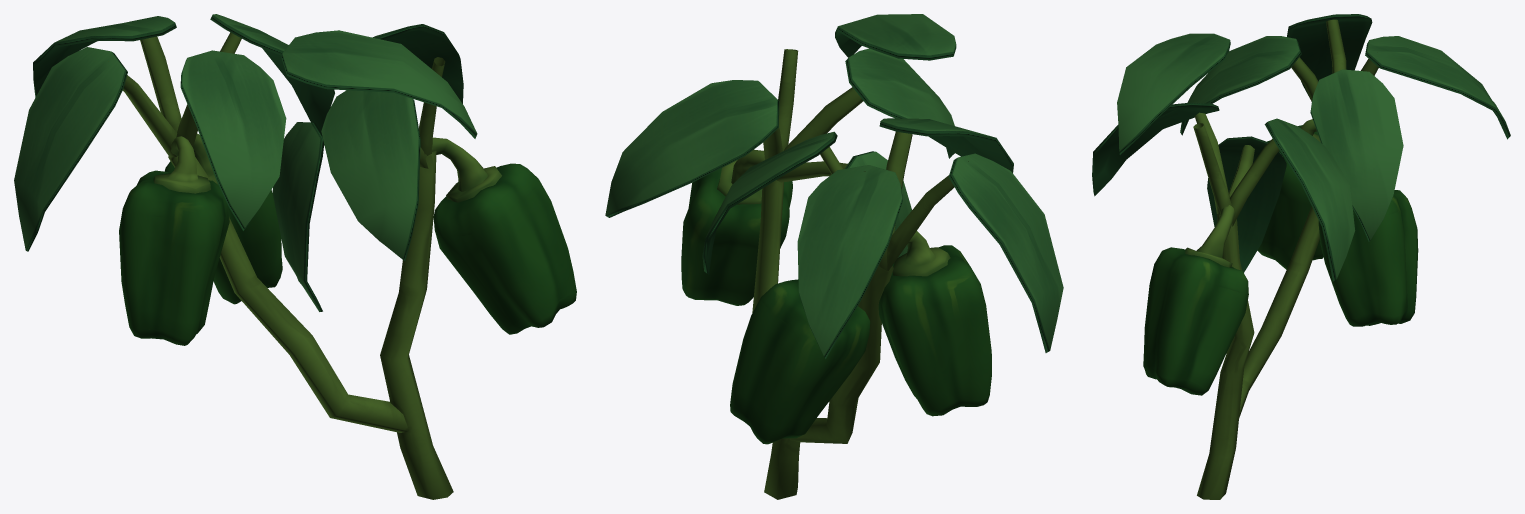
The model's file is pimentão inteiro.fbx.
3 views of the same model, side by side, from view 1: azimuth 30°, elevation 25°; view 2: azimuth 150°, elevation 25°; view 3: azimuth 270°, elevation 25° (orthographic). The views are drawn at different scales.
Visible parts, largest first — view 1: pimentão4:Group47311.001, pimentão4:Group28728, pimentão4:Group34766.001, pimentão4:Group34766, pimentão4:Group64189, pimentão, pimentão4:Group2140.001, pimentão4:Group39029, pimentão4:Group64189.001, pimentão4:Group47311, pimentão4:Group51936, pimentão4:Group2140 (+6 smaller); view 2: pimentão4:Group28728, pimentão4:Group47311, pimentão4:Group51936, pimentão4:Group51936.001, pimentão4:Group64189, pimentão4:Group47311.001, pimentão4:Group34766.001, pimentão4:Group2140.001, pimentão, pimentão4:Group39029, pimentão4:Group2140, pimentão4:Group34766 (+8 smaller); view 3: pimentão4:Group47311.001, pimentão4:Group2140, pimentão4:Group47311, pimentão4:Group2140.001, pimentão4:Group51936.001, pimentão, pimentão4:Group51936, pimentão4:Group64189.001, pimentão4:Group34766, pimentão4:Group39029, pimentão4:Group64189, pimentão4:Group28728 (+8 smaller).
Boxes of the visible parts, left/top/right/bottom form: pimentão4:Group47311.001: left=433, top=163, right=576, bottom=334; pimentão4:Group28728: left=119, top=170, right=229, bottom=345; pimentão4:Group34766.001: left=321, top=90, right=420, bottom=261; pimentão4:Group34766: left=180, top=50, right=286, bottom=230; pimentão4:Group64189: left=14, top=47, right=127, bottom=251; pimentão: left=380, top=150, right=453, bottom=499; pimentão4:Group2140.001: left=281, top=30, right=477, bottom=138; pimentão4:Group39029: left=168, top=156, right=408, bottom=432; pimentão4:Group64189.001: left=272, top=122, right=324, bottom=311; pimentão4:Group47311: left=164, top=161, right=282, bottom=304; pimentão4:Group51936: left=33, top=16, right=176, bottom=97; pimentão4:Group2140: left=210, top=14, right=334, bottom=132; pimentão4:Group28728: left=878, top=245, right=991, bottom=416; pimentão4:Group47311: left=730, top=279, right=870, bottom=444; pimentão4:Group51936: left=797, top=165, right=902, bottom=358; pimentão4:Group51936.001: left=605, top=80, right=779, bottom=217; pimentão4:Group64189: left=948, top=153, right=1063, bottom=352; pimentão4:Group47311.001: left=681, top=168, right=792, bottom=305; pimentão4:Group34766.001: left=845, top=48, right=954, bottom=158; pimentão4:Group2140.001: left=835, top=14, right=956, bottom=60; pimentão: left=752, top=180, right=800, bottom=499; pimentão4:Group39029: left=789, top=266, right=893, bottom=443; pimentão4:Group2140: left=702, top=131, right=837, bottom=274; pimentão4:Group34766: left=879, top=118, right=1013, bottom=172; pimentão4:Group47311.001: left=1143, top=247, right=1248, bottom=395; pimentão4:Group2140: left=1310, top=69, right=1403, bottom=241; pimentão4:Group47311: left=1318, top=190, right=1418, bottom=326; pimentão4:Group2140.001: left=1117, top=33, right=1230, bottom=154; pimentão4:Group51936.001: left=1264, top=118, right=1355, bottom=281; pimentão: left=1197, top=213, right=1254, bottom=499; pimentão4:Group51936: left=1365, top=36, right=1510, bottom=139; pimentão4:Group64189.001: left=1207, top=136, right=1286, bottom=272; pimentão4:Group34766: left=1180, top=36, right=1301, bottom=135; pimentão4:Group39029: left=1239, top=206, right=1319, bottom=418; pimentão4:Group64189: left=1287, top=14, right=1372, bottom=97; pimentão4:Group28728: left=1257, top=125, right=1323, bottom=269.
Size of the model in its own units: 83.33 by 83.96 by 78.87.
Materials: 3 (3 with a texture image).
